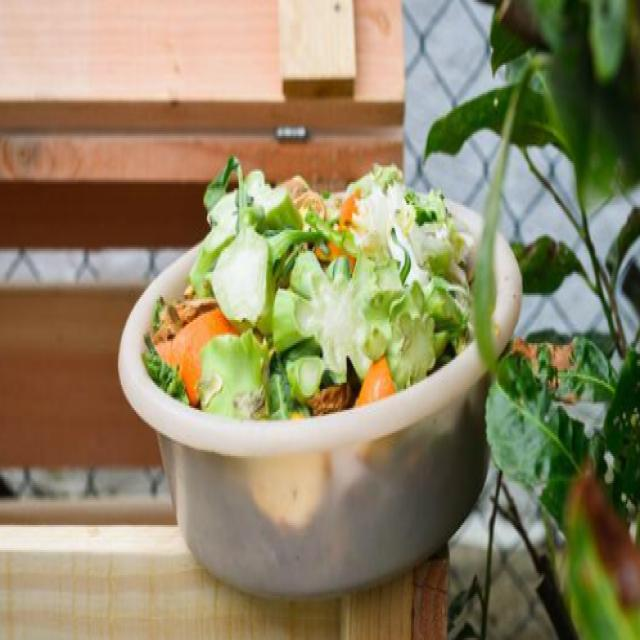paper: (286, 250, 381, 377), (221, 175, 273, 331)
